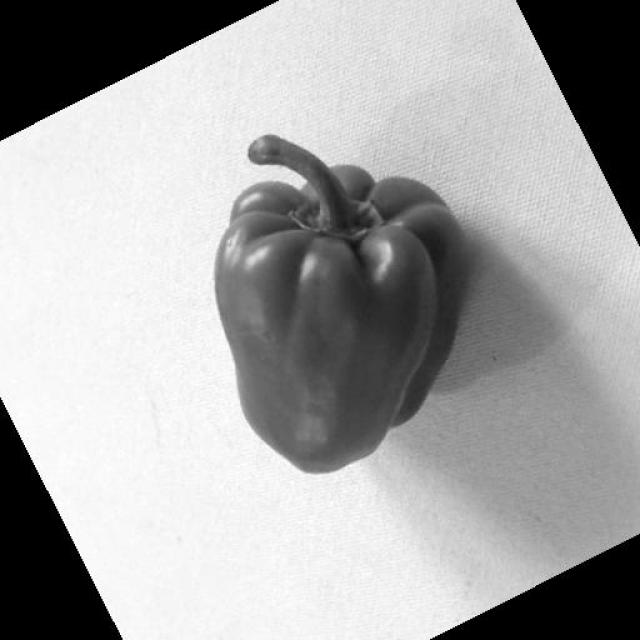Fresh_Capsicum: (144, 117, 492, 484)
